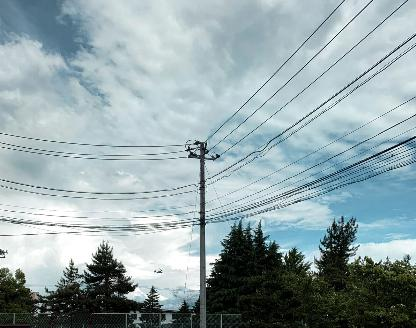Tornado: (154, 268, 164, 273)
